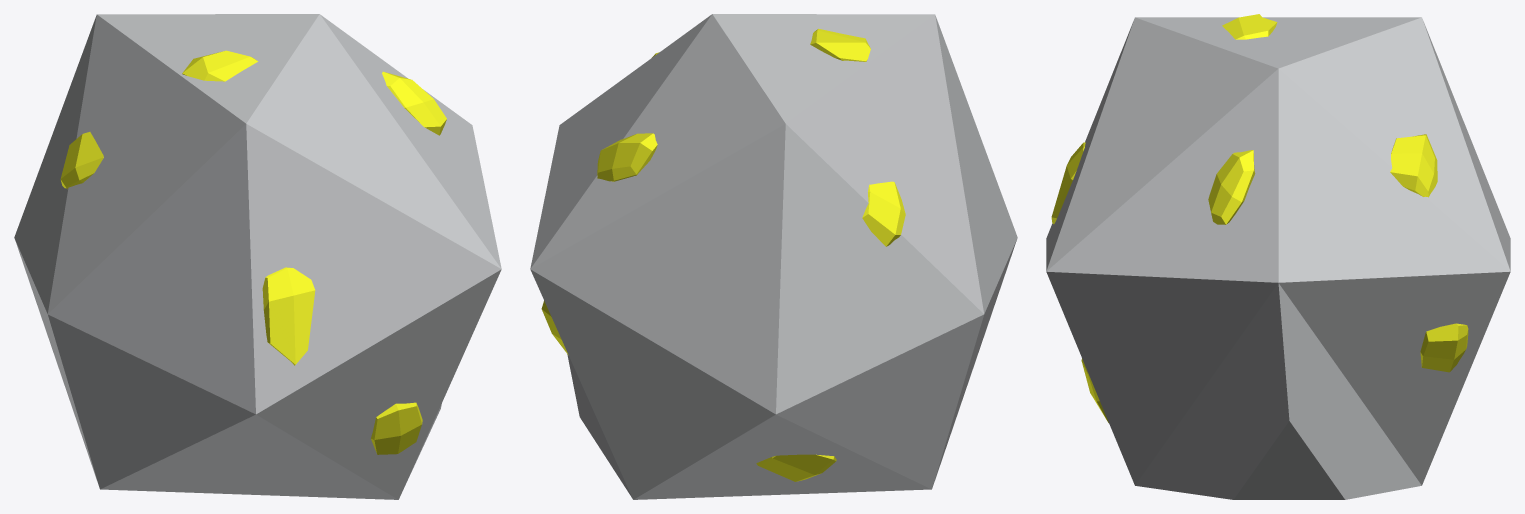
The model's file is metal rock.fbx.
3 renders of one model, left to right at view 1: azimuth 30°, elevation 25°; view 2: azimuth 150°, elevation 25°; view 3: azimuth 270°, elevation 25°, orthographic. The views are drawn at different scales.
Parts seen in each view (by area): view 1: Cube.002; view 2: Cube.002; view 3: Cube.002.
Boxes of the visible parts, x1,y1,x2,y2 form: Cube.002: (14,14,501,499); Cube.002: (530,14,1017,499); Cube.002: (1046,14,1510,499).
Bounding box in the file's own units: 339 × 328 × 332.
